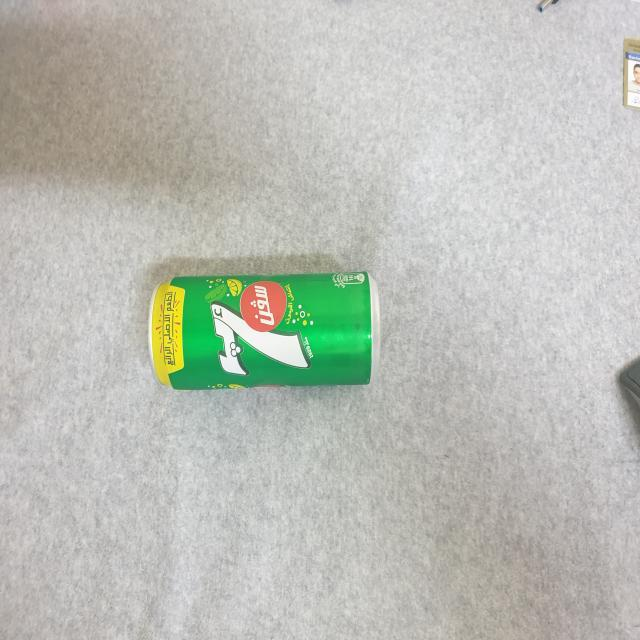can: (146, 258, 381, 398)
